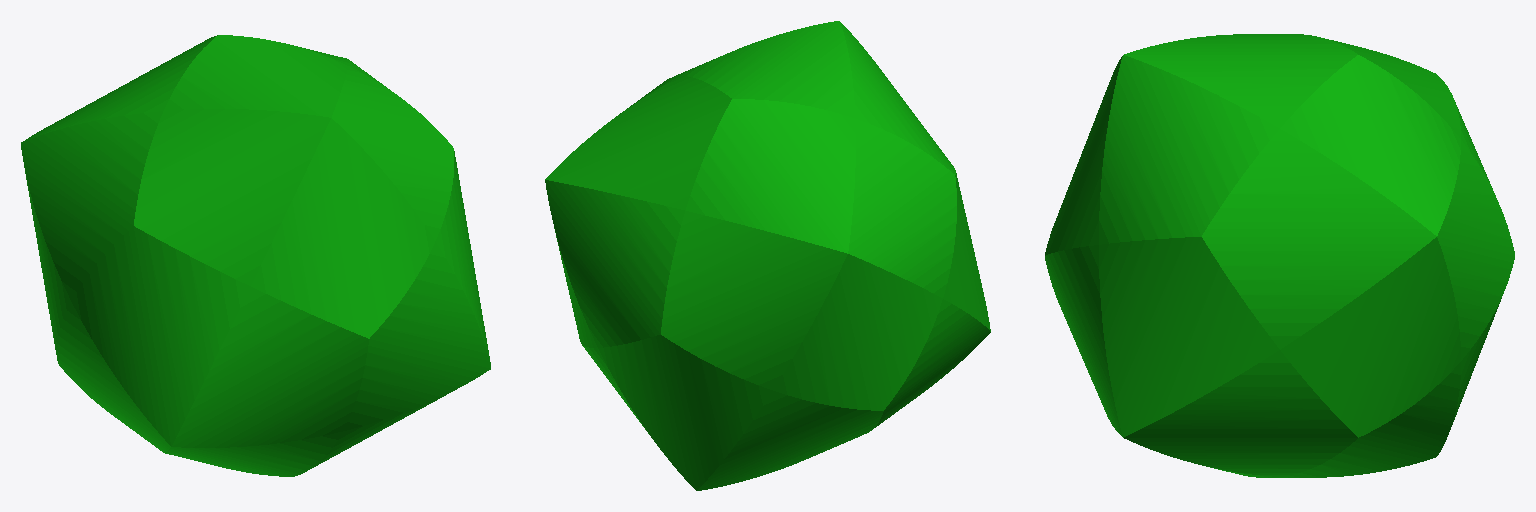
URDF robot description (steinmetz_4):
<?xml version="1.0"?>
<robot name="steinmetz_4">
  <link name="steinmetz_4_base_link">
    <contact>
      <lateral_friction value="1.0"/>
      <spinning_friction value=".001"/>
    </contact>
    <inertial>
      <origin rpy="0 0 0" xyz="0 0 0"/>
      <mass value="0.02"/>
      <inertia ixx="0.000147" ixy="0" ixz="0" iyy="0.000147" iyz="0" izz="0.000147"/>
    </inertial>
    <visual>
      <origin rpy="0 0 0" xyz="0.0 0.0 0.0"/>
      <geometry>
        <mesh filename="4.obj" scale="1 1 1"/>
      </geometry>
      <material name="blockmat">
        <color rgba="0.1 0.7 0.1 1"/>
      </material>
    </visual>
    <collision>
      <origin rpy="0 0 0" xyz="0.0 0.0 0.0"/>
      <geometry>
        <mesh filename="4.obj" scale="1 1 1"/>
      </geometry>
    </collision>
  </link>
</robot>

--- Facts derived from the render (not from the file) ---
The picture shows the robot from 3 angles, left to right: view 1: azimuth 30°, elevation 25°; view 2: azimuth 150°, elevation 25°; view 3: azimuth 270°, elevation 25°; orthographic projection.
Model steinmetz_4 with 1 links and 0 joints (none), rooted at steinmetz_4_base_link, posed every joint at zero.
Visible links, largest first — view 1: steinmetz_4_base_link; view 2: steinmetz_4_base_link; view 3: steinmetz_4_base_link.
Link boxes in pixels (x1,y1,x2,y2): steinmetz_4_base_link: (21,35,490,476); steinmetz_4_base_link: (545,21,990,490); steinmetz_4_base_link: (1045,34,1514,477).
Bounding box of the posed robot: 0.3 × 0.3182 × 0.3 m (x, y, z).
Meshes: 1 distinct files referenced, 1 mesh visuals loaded (1 OBJ).
